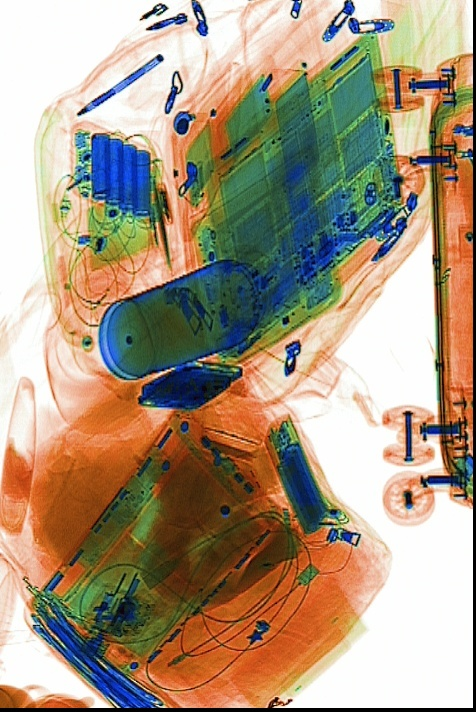powerbank: (63, 122, 157, 222), (264, 409, 329, 540)
